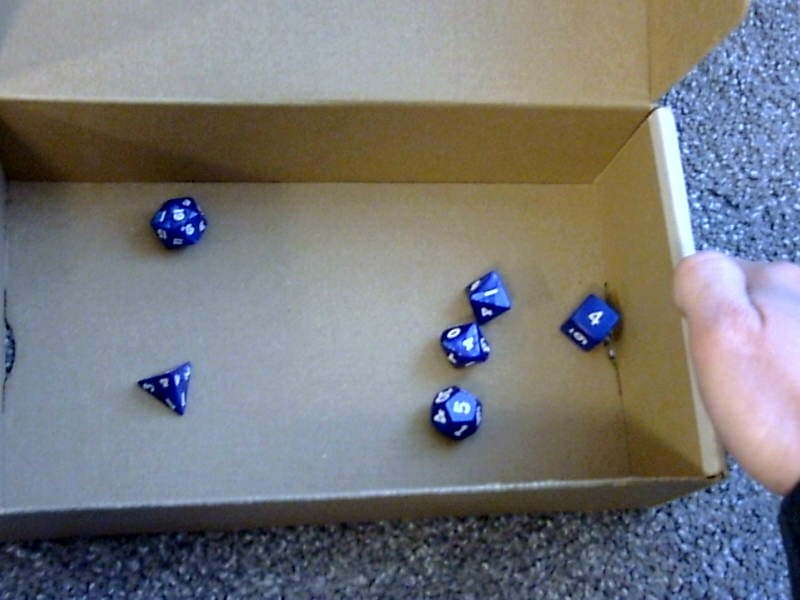d10 4: (437, 321, 496, 370)
d12 5: (421, 382, 488, 444)
d20 19: (143, 185, 208, 254)
d4 4: (129, 353, 199, 420)
d6 4: (550, 286, 628, 353)
d8 1: (461, 265, 513, 325)
